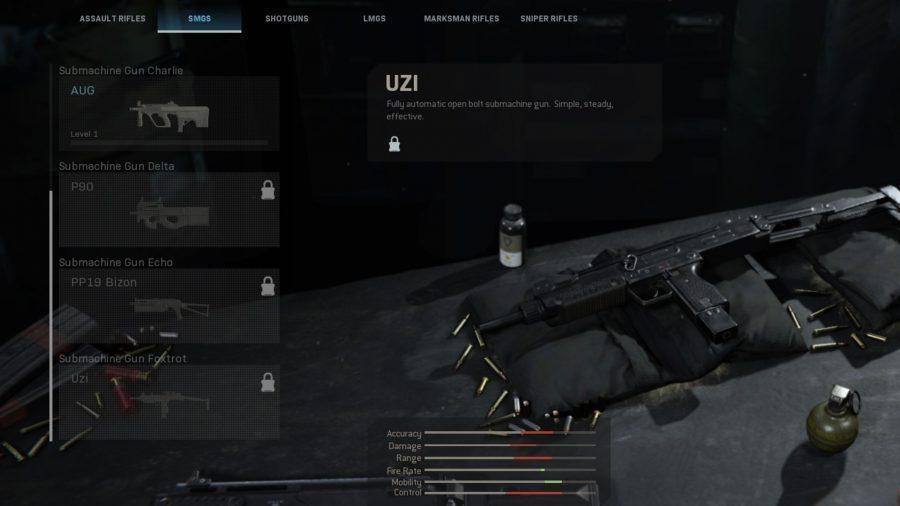Grenade: (806, 384, 860, 452)
Gun: (477, 185, 900, 344)
